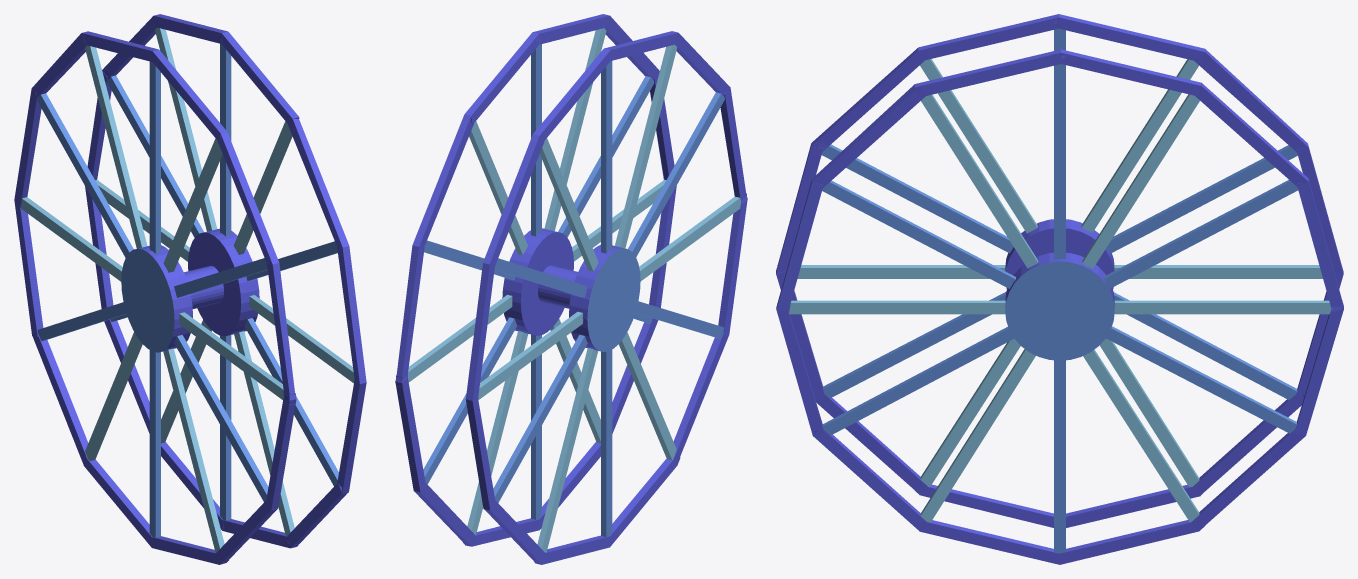
The model's file is DC_Raccoon_Ferris_Wheel.fbx.
The picture shows the model from 3 angles, left to right: view 1: azimuth 30°, elevation 25°; view 2: azimuth 150°, elevation 25°; view 3: azimuth 270°, elevation 25°; orthographic projection. The views are drawn at different scales.
Parts seen in each view (by area): view 1: Cylinder, Cylinder.001; view 2: Cylinder, Cylinder.001; view 3: Cylinder.001, Cylinder.
Boxes of the visible parts, bbox=[...] form: Cylinder: bbox=[14, 31, 296, 564]; Cylinder.001: bbox=[85, 14, 366, 548]; Cylinder: bbox=[465, 31, 747, 564]; Cylinder.001: bbox=[395, 14, 676, 546]; Cylinder.001: bbox=[776, 49, 1343, 564]; Cylinder: bbox=[776, 14, 1343, 527].
Size of the model in its own units: 119 by 665 by 668.
